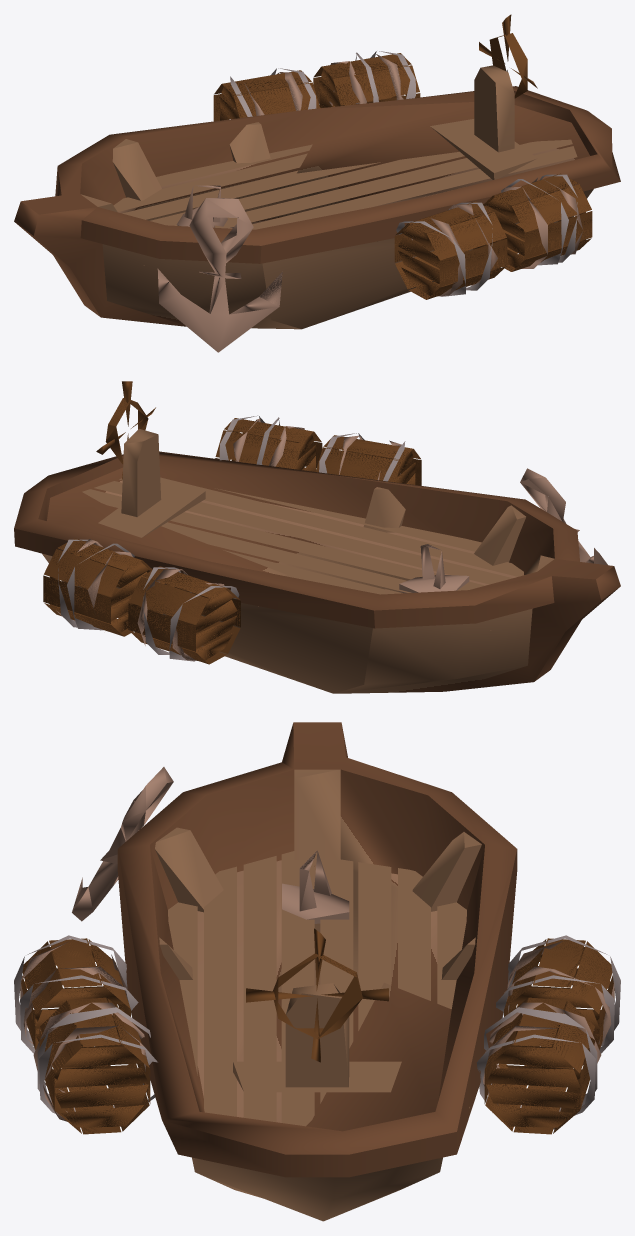
File: Ship_Small.medium.gltf
The picture shows the model from 3 angles, top to bottom: view 1: azimuth 30°, elevation 25°; view 2: azimuth 150°, elevation 25°; view 3: azimuth 270°, elevation 25°; orthographic projection. The views are drawn at different scales.
Visible parts, largest first — view 1: Ship_Small; view 2: Ship_Small; view 3: Ship_Small.
Boxes of the visible parts, x1,y1,x2,y2 form: Ship_Small: (14,14,620,352); Ship_Small: (14,381,620,693); Ship_Small: (14,722,620,1221).
Bounding box in the file's own units: 5.13 × 1.98 × 3.56.
1 material, 1 textured.
